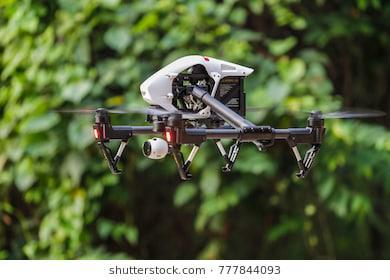drone: (45, 52, 390, 188)
